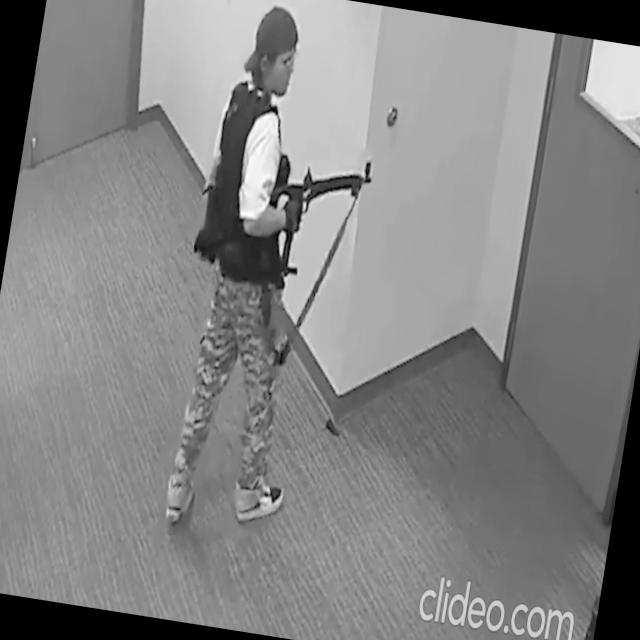gun: (266, 146, 374, 288)
person with a gun: (149, 0, 396, 547)
